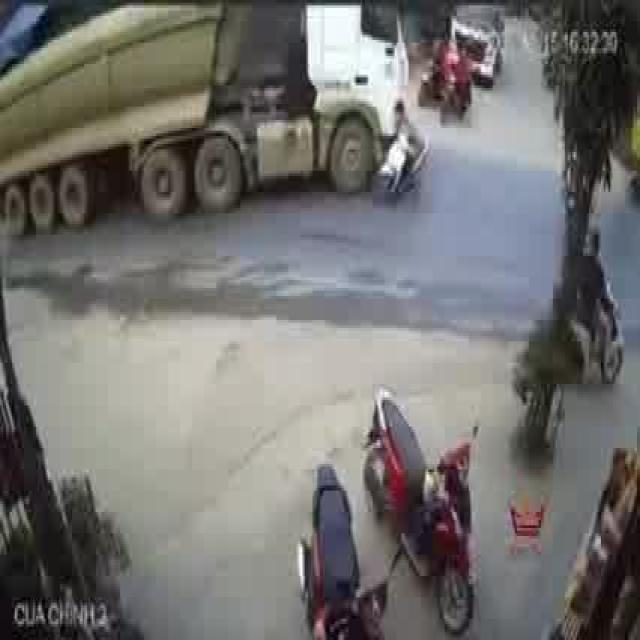multiple_accident: (226, 1, 436, 214)
